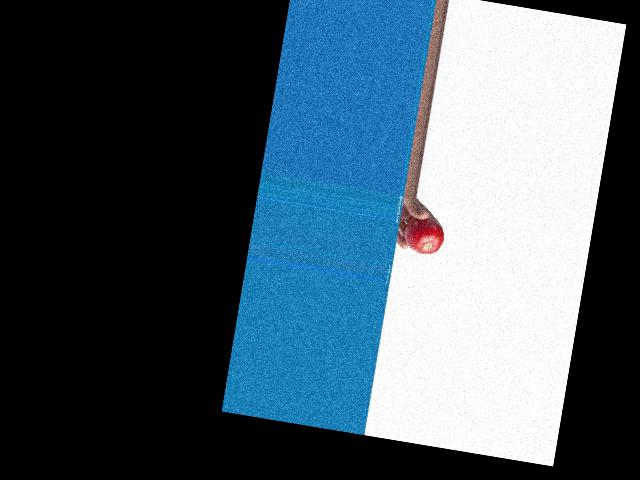tomato: (401, 213, 446, 257)
